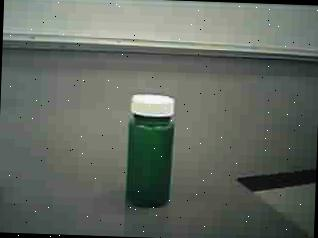Bottle C: (113, 86, 188, 221)
